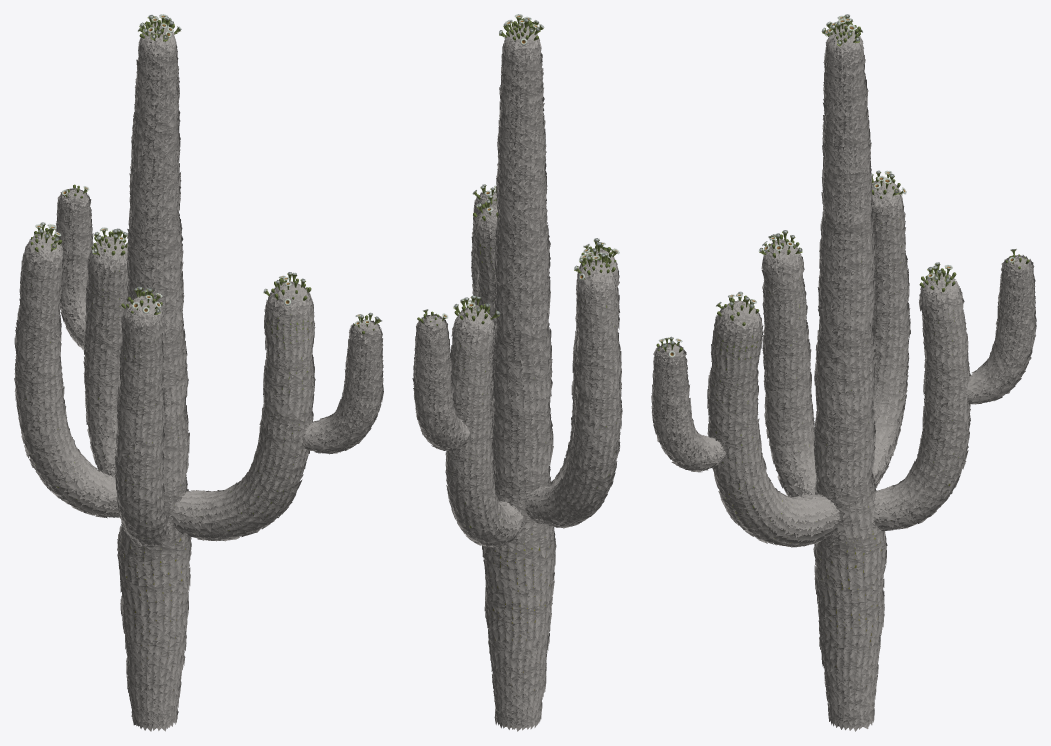
File: saguaro_cactus.glb
3 renders of one model, left to right at view 1: azimuth 30°, elevation 25°; view 2: azimuth 150°, elevation 25°; view 3: azimuth 270°, elevation 25°, orthographic.
Visible parts, largest first — view 1: Carnegiea_gigantea_HD, Carnegiea_gigantea_HD_Cactus spines 01_0.001; view 2: Carnegiea_gigantea_HD, Carnegiea_gigantea_HD_Cactus spines 01_0.001; view 3: Carnegiea_gigantea_HD, Carnegiea_gigantea_HD_Cactus spines 01_0.001.
Boxes of the visible parts, bbox=[...] form: Carnegiea_gigantea_HD: bbox=[14, 14, 382, 731]; Carnegiea_gigantea_HD_Cactus spines 01_0.001: bbox=[16, 66, 383, 715]; Carnegiea_gigantea_HD: bbox=[412, 14, 622, 731]; Carnegiea_gigantea_HD_Cactus spines 01_0.001: bbox=[445, 54, 621, 717]; Carnegiea_gigantea_HD: bbox=[653, 14, 1036, 731]; Carnegiea_gigantea_HD_Cactus spines 01_0.001: bbox=[651, 63, 970, 710].
Bounding box in the file's own units: 1.11 × 2.94 × 1.45.
Materials: 10 (10 with a texture image).
